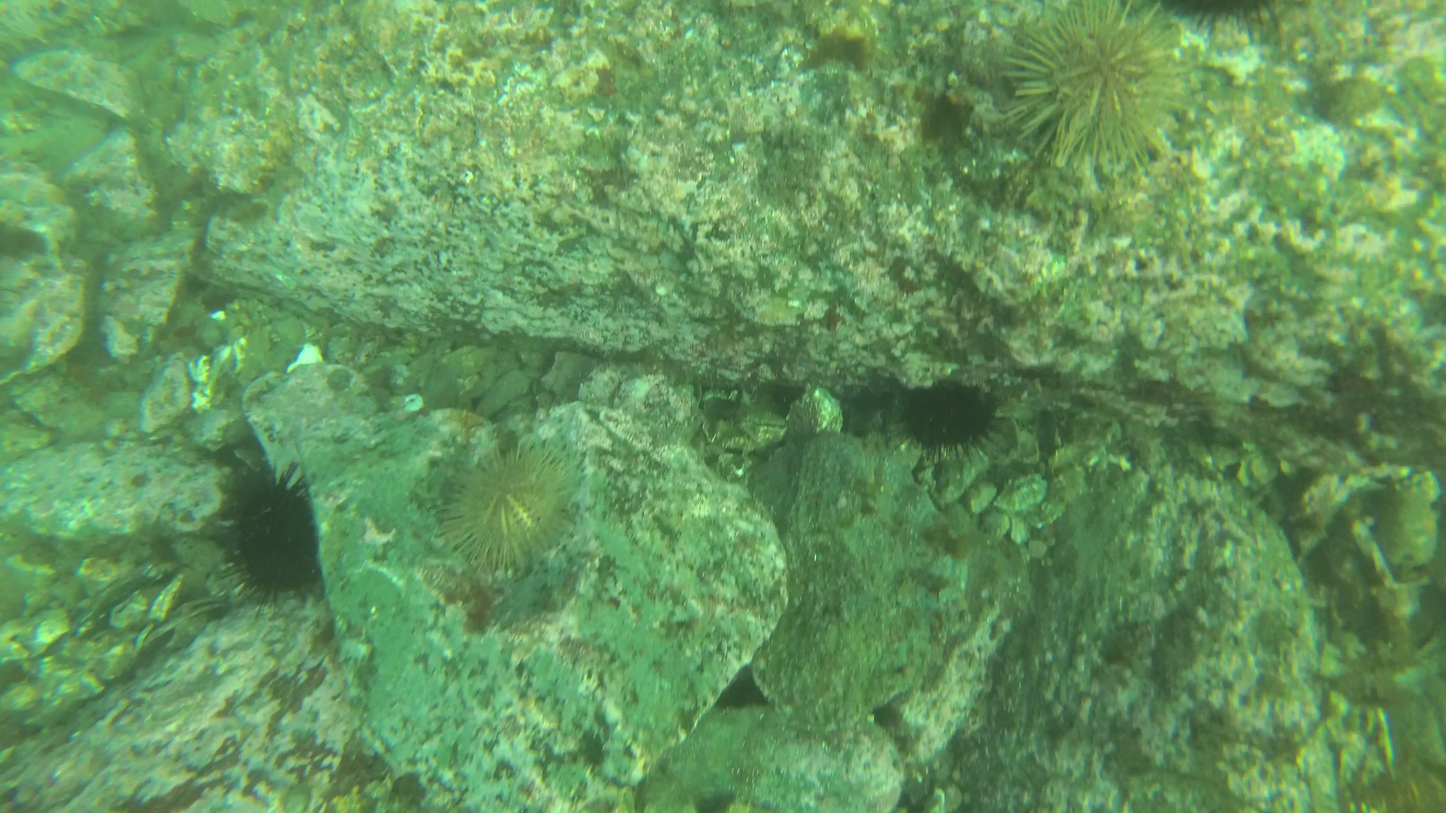starfish: (996, 0, 1191, 177), (435, 450, 581, 589), (208, 460, 323, 609), (894, 378, 1010, 464)
